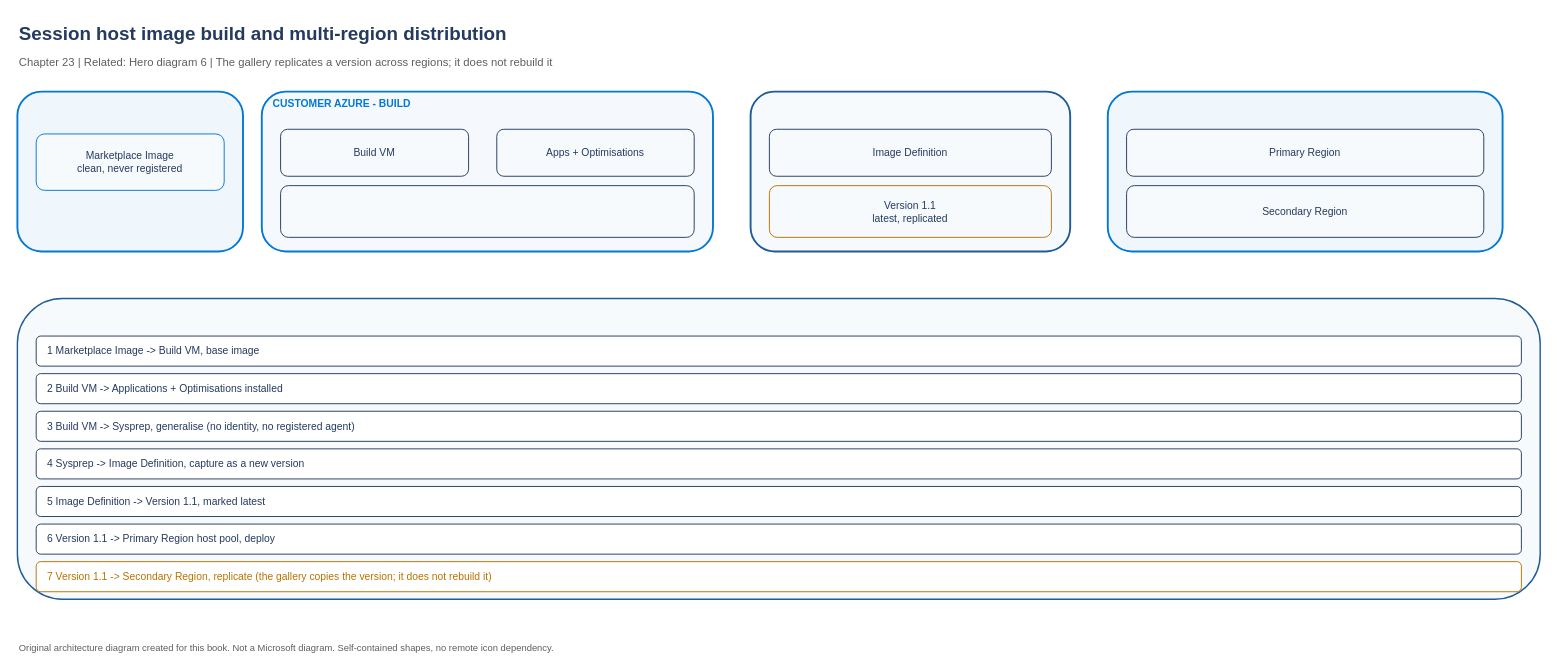
The diagram is 1557 pixels wide and 671 high, and some of its shapes have lost their labels. Here are the shapes that lost their labels. From the top down, the box of each, then its label:
(16, 90, 243, 252): SOURCE
(749, 90, 1071, 252): AZURE COMPUTE GALLERY
(1106, 90, 1503, 252): HOST POOLS
(280, 185, 694, 237): Sysprep generalise, no identity
(16, 297, 1540, 600): FLOWS, IN ORDER
